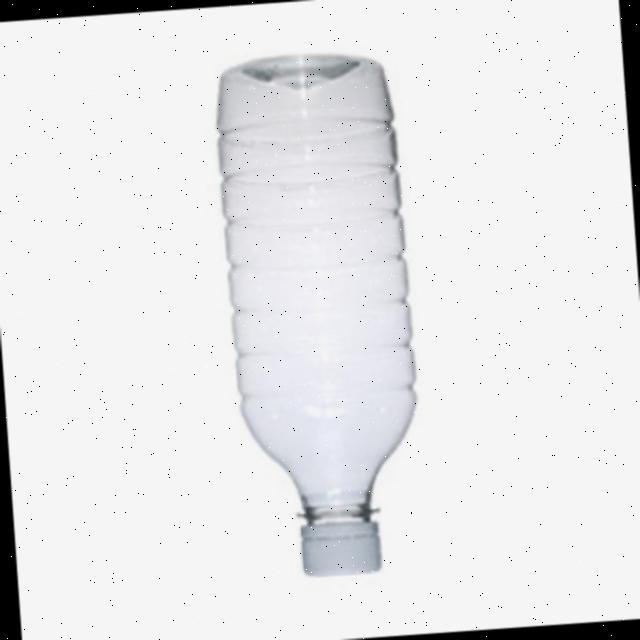bottle: (169, 31, 499, 596)
cap: (293, 504, 392, 587)
